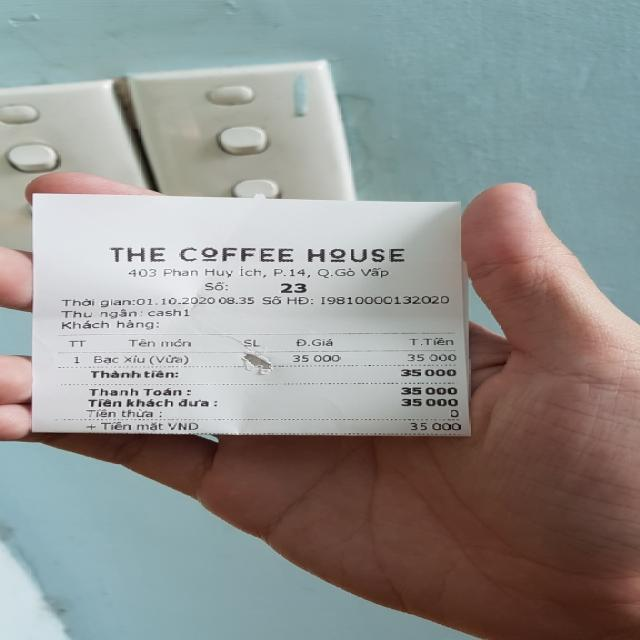Date: (132, 296, 220, 304)
Store_Name: (101, 243, 412, 265)
amount_number: (400, 367, 459, 379)
label_total: (87, 366, 179, 378)
